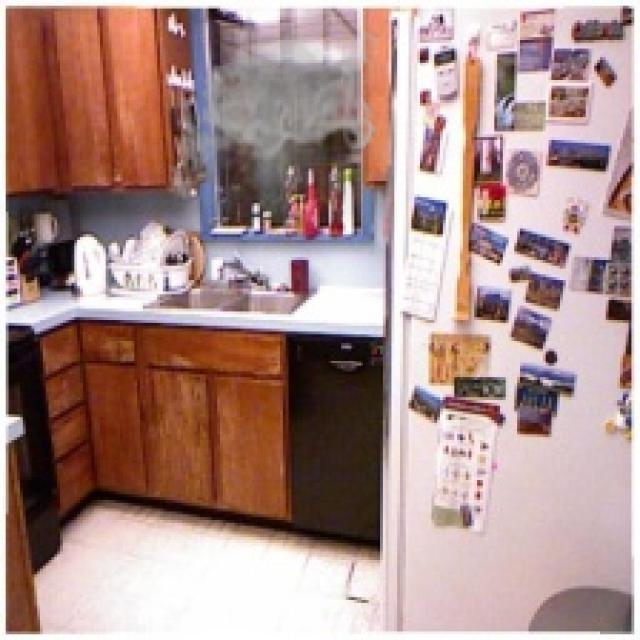Smoke: (163, 20, 380, 223)
